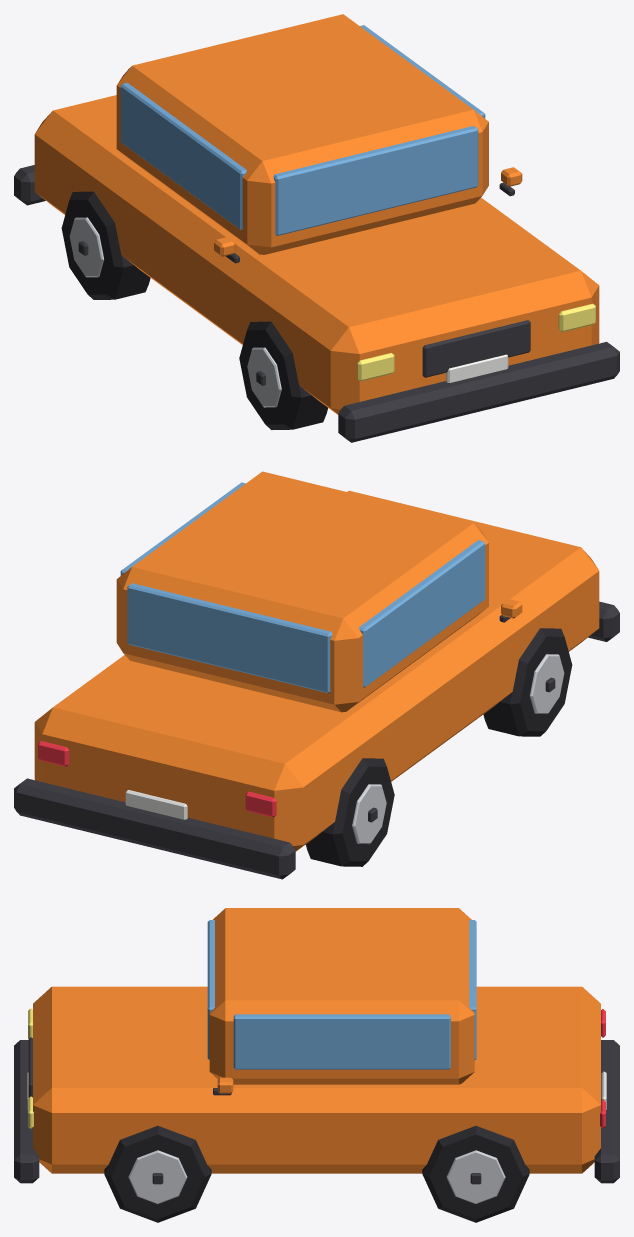
Rendered from OrangeCar.fbx.
3 views of the same model, one above another, from view 1: azimuth 30°, elevation 25°; view 2: azimuth 150°, elevation 25°; view 3: azimuth 270°, elevation 25° (orthographic). The views are drawn at different scales.
Parts seen in each view (by area): view 1: OrangeCar, OrangeCar_WheelBR, OrangeCar_WheelFR; view 2: OrangeCar, OrangeCar_WheelBR, OrangeCar_WheelFR; view 3: OrangeCar, OrangeCar_WheelBL, OrangeCar_WheelFL.
Part boxes in pixels (box(x1,y1,x2,y2)): OrangeCar: box(14, 14, 619, 442); OrangeCar_WheelBR: box(61, 191, 150, 299); OrangeCar_WheelFR: box(239, 321, 327, 429); OrangeCar: box(14, 471, 619, 879); OrangeCar_WheelBR: box(305, 758, 394, 866); OrangeCar_WheelFR: box(483, 628, 572, 736); OrangeCar: box(14, 908, 619, 1183); OrangeCar_WheelBL: box(422, 1125, 529, 1222); OrangeCar_WheelFL: box(104, 1125, 211, 1222).
Bounding box in the file's own units: 4.95 × 3.67 × 9.6.
1 material, 1 textured.
